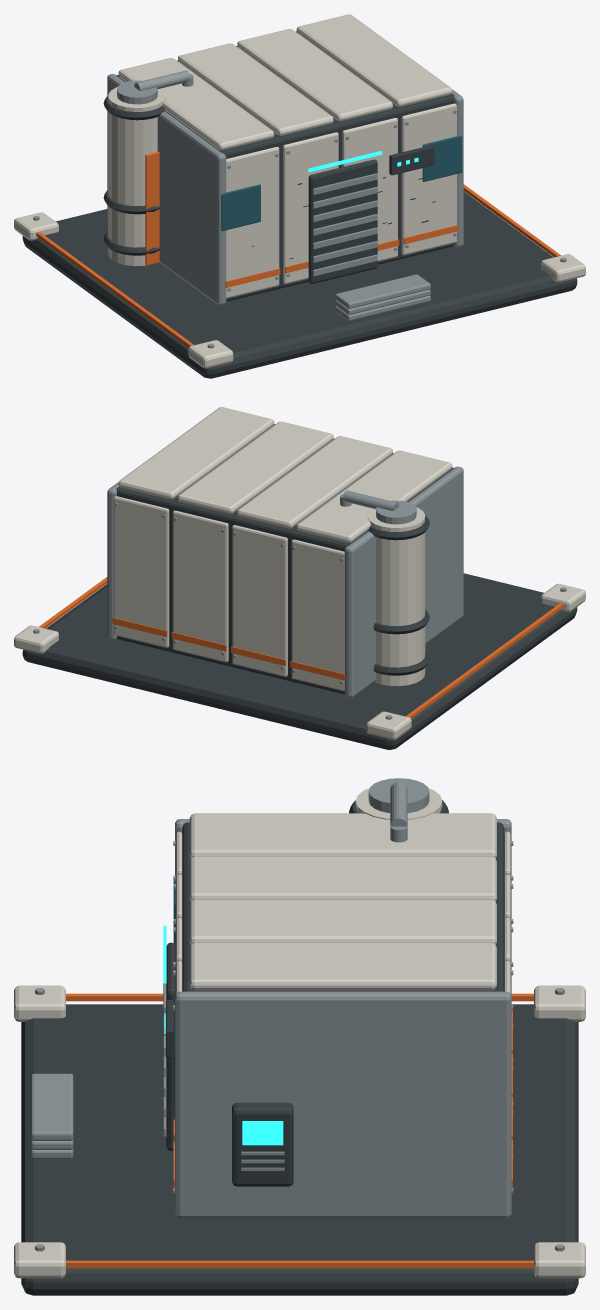
Rendered from SM_XenotechLaboratory_Body.fbx.
3 renders of one model, top to bottom at view 1: azimuth 30°, elevation 25°; view 2: azimuth 150°, elevation 25°; view 3: azimuth 270°, elevation 25°, orthographic. The views are drawn at different scales.
Visible parts, largest first — view 1: SM_XenotechLaboratory_Body; view 2: SM_XenotechLaboratory_Body; view 3: SM_XenotechLaboratory_Body.
Boxes of the visible parts, x1=… form: SM_XenotechLaboratory_Body: x1=14, y1=14, x2=585, y2=378; SM_XenotechLaboratory_Body: x1=14, y1=407, x2=585, y2=749; SM_XenotechLaboratory_Body: x1=14, y1=778, x2=585, y2=1295.
Bounding box in the file's own units: 532 × 462 × 257.
